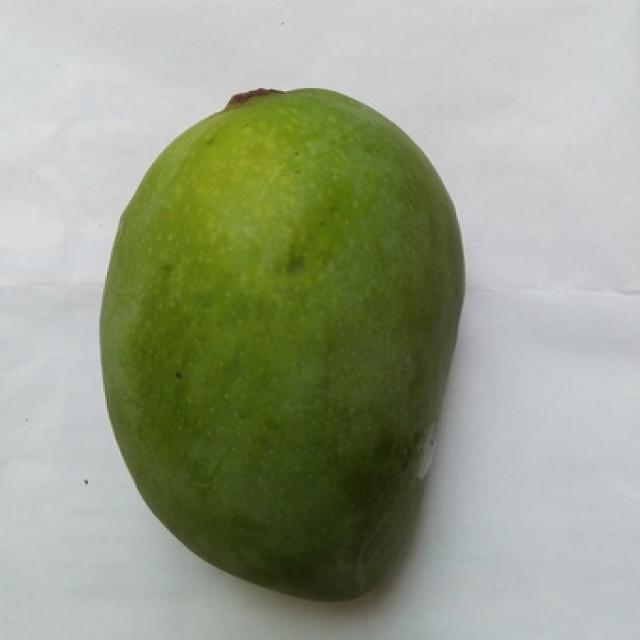Mango: (101, 89, 464, 601)
